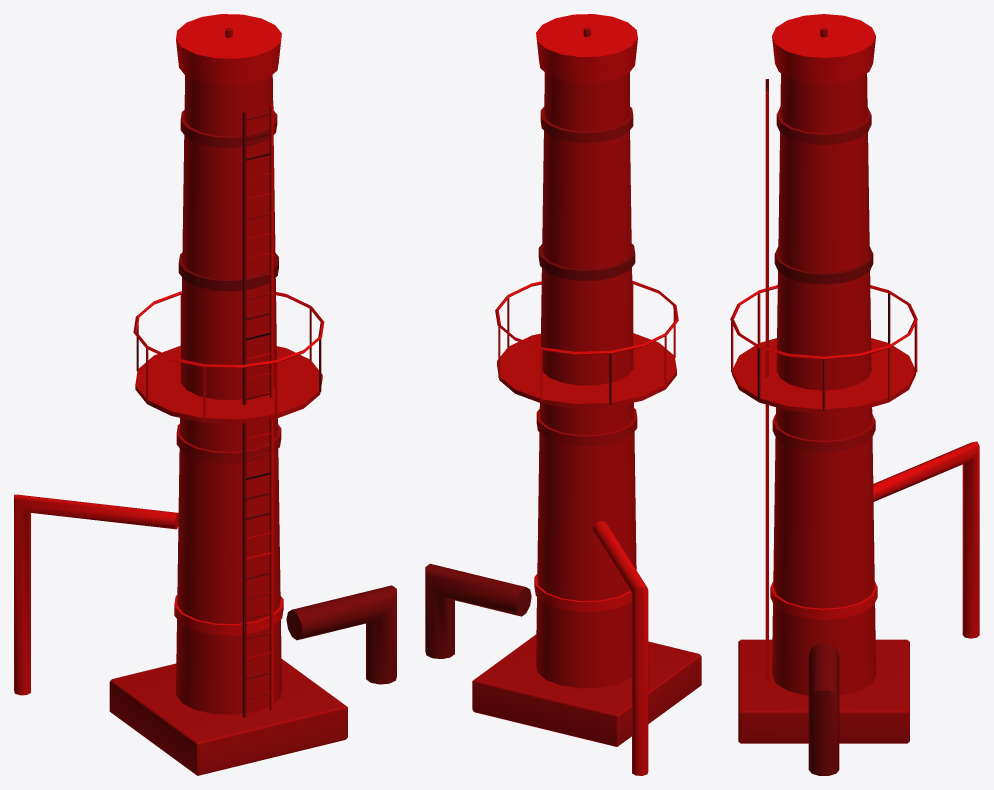
The model's file is stack_industrial.glb.
3 renders of one model, left to right at view 1: azimuth 30°, elevation 25°; view 2: azimuth 150°, elevation 25°; view 3: azimuth 270°, elevation 25°, orthographic. The views are drawn at different scales.
Visible parts, largest first — view 1: stack_industrial; view 2: stack_industrial; view 3: stack_industrial.
Part boxes in pixels (x1,y1,x2,y2): stack_industrial: (14, 14, 396, 775); stack_industrial: (425, 14, 701, 775); stack_industrial: (730, 14, 979, 775).
Bounding box in the file's own units: 5.58 × 12.22 × 4.07.
